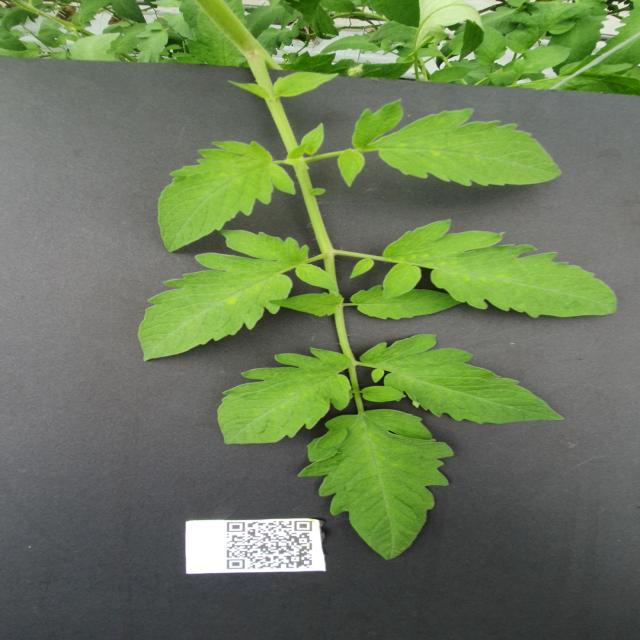Healthy Leaf: (137, 230, 336, 364), (298, 409, 457, 562), (384, 220, 622, 320), (338, 98, 563, 188), (357, 333, 574, 425), (158, 141, 289, 253), (216, 348, 354, 446), (351, 285, 462, 323), (264, 293, 345, 319), (514, 45, 572, 76), (276, 72, 341, 98), (474, 26, 508, 66), (321, 34, 383, 55), (429, 66, 473, 85)
